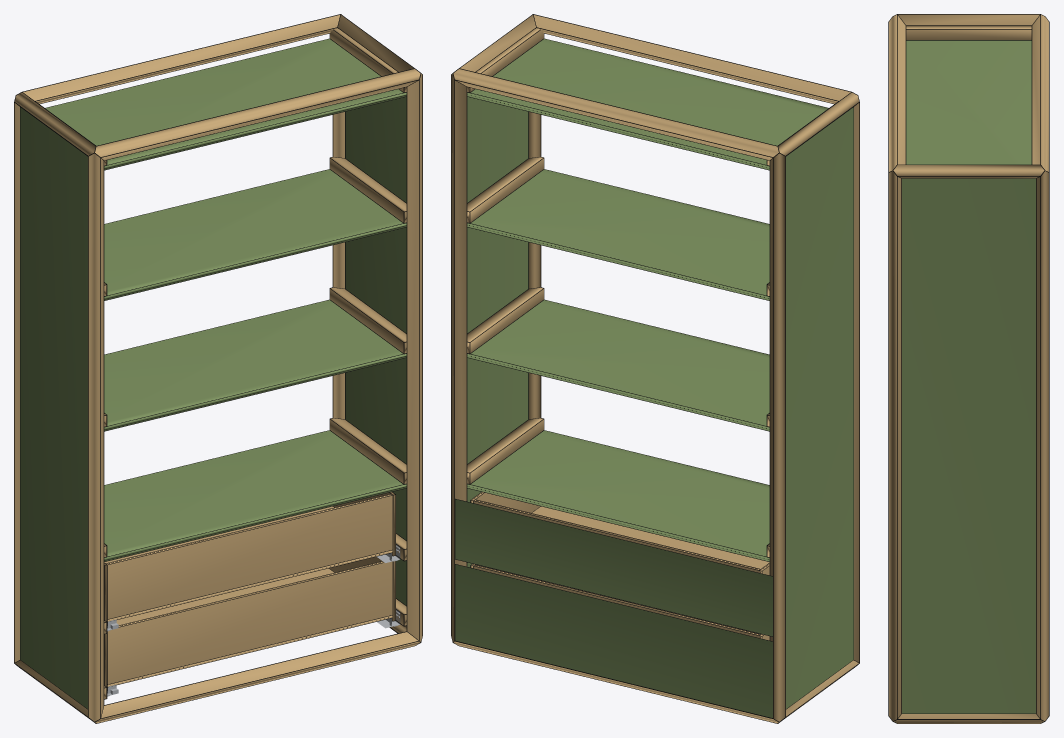
File: 009-dressing.glb
3 renders of one model, left to right at view 1: azimuth 30°, elevation 25°; view 2: azimuth 150°, elevation 25°; view 3: azimuth 270°, elevation 25°, orthographic. The views are drawn at different scales.
Visible parts, largest first — view 1: panneau-joue1, tablette-plate-mod-0, tablette-plate-mod-2, tablette-plate-mod-1, tablette-plate-mod-3, drawer-box-avant-mod-5, drawer-box-avant-mod-4, panneau-joue2, arete-Z0, arete-Z1, arete-X2, arete-X0 (+25 smaller); view 2: panneau-joue1, drawer-box-facade-mod-4, tablette-plate-mod-0, tablette-plate-mod-2, tablette-plate-mod-1, drawer-box-facade-mod-5, tablette-plate-mod-3, panneau-joue2, arete-Z2, arete-Z3, arete-X3, arete-X2 (+24 smaller); view 3: panneau-joue2, tablette-plate-mod-3, arete-Z1, arete-Z3, arete-X2, arete-X3, arete-Y3, arete-Y2, tablette-traverse-left-mod-3, panneau-wire-joue2, arete-Y1, arete-wire-Z1 (+6 smaller).
Part boxes in pixels (bbox=[...]): panneau-joue1: bbox=[20, 107, 87, 708]; tablette-plate-mod-0: bbox=[104, 430, 406, 561]; tablette-plate-mod-2: bbox=[104, 169, 406, 300]; tablette-plate-mod-1: bbox=[104, 300, 406, 430]; tablette-plate-mod-3: bbox=[45, 39, 406, 169]; drawer-box-avant-mod-5: bbox=[106, 494, 392, 618]; drawer-box-avant-mod-4: bbox=[107, 561, 392, 684]; panneau-joue2: bbox=[345, 97, 406, 605]; arete-Z0: bbox=[88, 153, 103, 721]; arete-Z1: bbox=[407, 74, 422, 641]; arete-X2: bbox=[95, 69, 420, 160]; arete-X0: bbox=[95, 632, 420, 723]; panneau-joue1: bbox=[786, 107, 853, 708]; drawer-box-facade-mod-4: bbox=[455, 564, 772, 717]; tablette-plate-mod-0: bbox=[467, 430, 769, 561]; tablette-plate-mod-2: bbox=[467, 169, 769, 300]; tablette-plate-mod-1: bbox=[467, 300, 769, 430]; drawer-box-facade-mod-5: bbox=[455, 499, 772, 636]; tablette-plate-mod-3: bbox=[467, 39, 828, 169]; panneau-joue2: bbox=[467, 97, 528, 567]; arete-Z2: bbox=[770, 153, 785, 721]; arete-Z3: bbox=[451, 74, 466, 641]; arete-X3: bbox=[453, 69, 778, 160]; arete-X2: bbox=[534, 15, 850, 103]; panneau-joue2: bbox=[902, 178, 1035, 713]; tablette-plate-mod-3: bbox=[906, 40, 1031, 164]; arete-Z1: bbox=[889, 171, 901, 720]; arete-Z3: bbox=[1036, 171, 1048, 720]; arete-X2: bbox=[889, 15, 905, 171]; arete-X3: bbox=[1032, 15, 1048, 171]; arete-Y3: bbox=[893, 165, 1044, 178]; arete-Y2: bbox=[898, 14, 1039, 26]; tablette-traverse-left-mod-3: bbox=[906, 27, 1031, 39]; panneau-wire-joue2: bbox=[901, 178, 1036, 713]; arete-Y1: bbox=[894, 714, 1043, 723]; arete-wire-Z1: bbox=[888, 170, 901, 719].
Size of the model in its own units: 1.23 by 2.03 by 0.5309.
